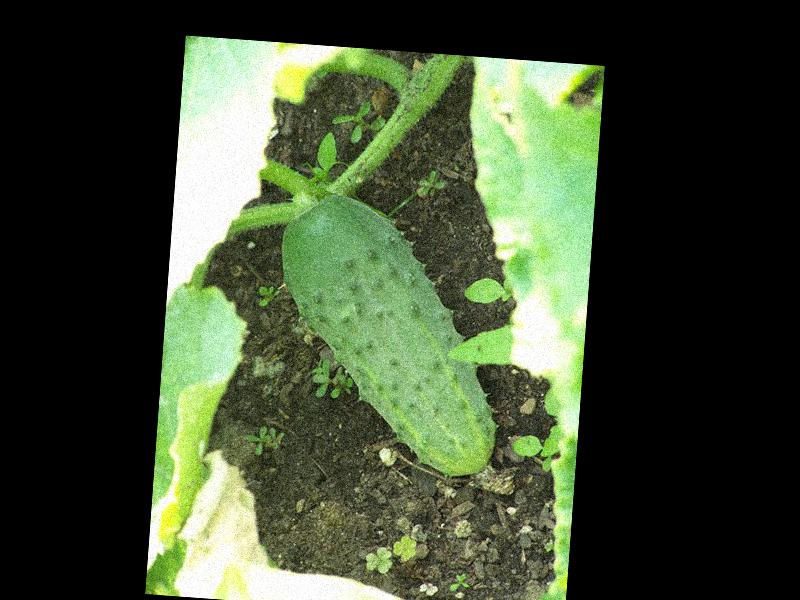Cucumber: (265, 189, 511, 478)
